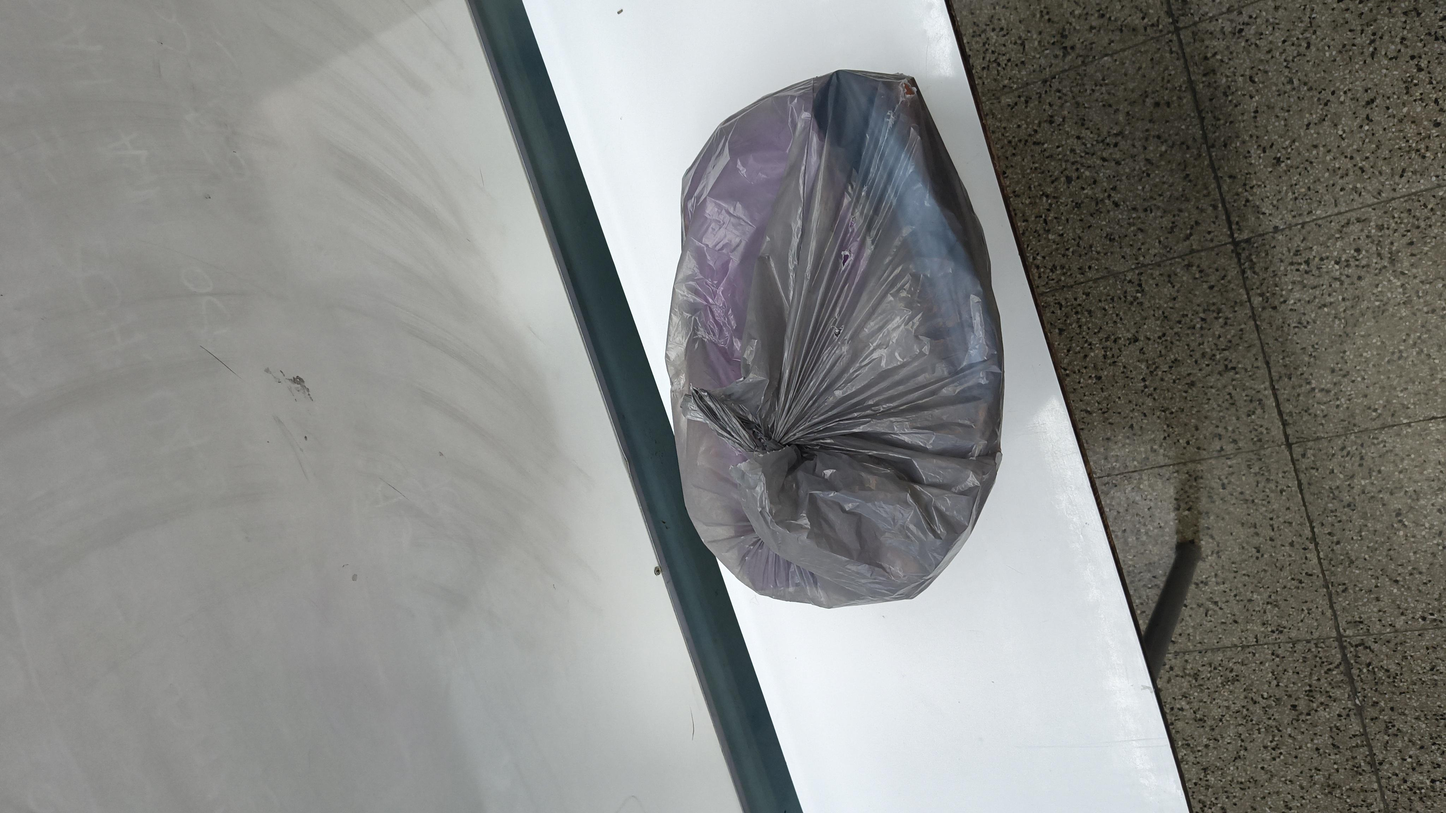Garbage: (270, 359, 1381, 578)
